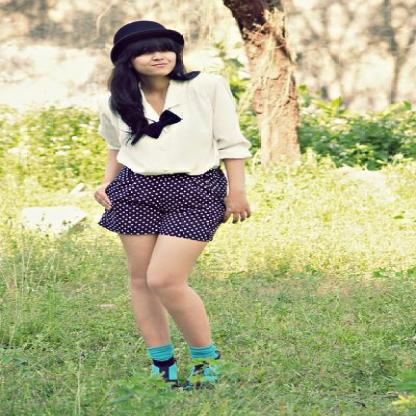hat: (120, 21, 161, 39)
shirt: (98, 71, 267, 174)
shoe: (129, 351, 220, 398)
shorts: (95, 166, 226, 240)
